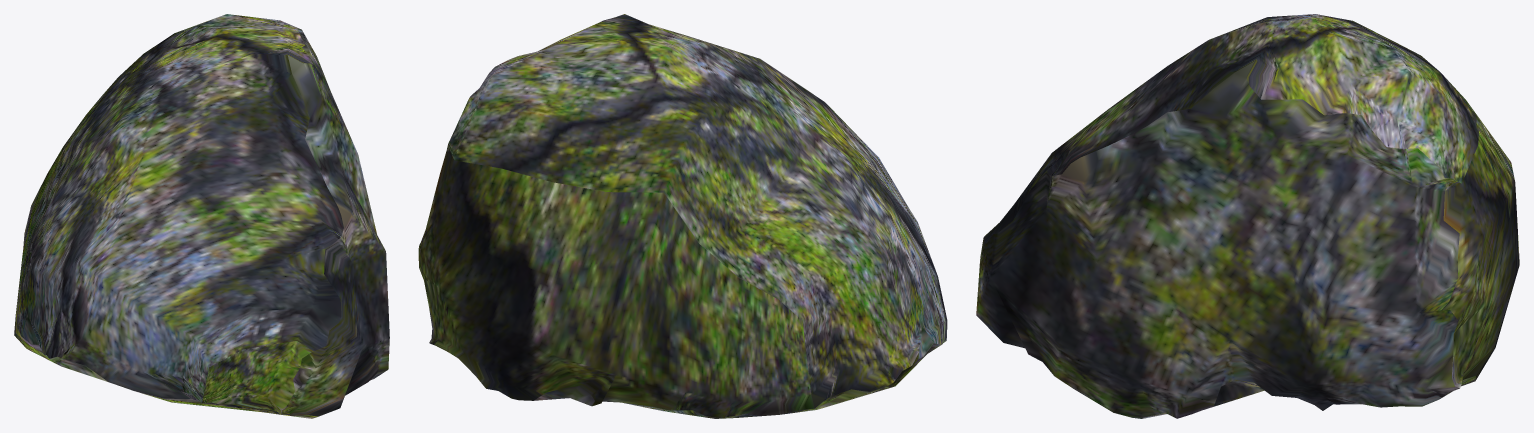
The model's file is Rock02.fbx.
The picture shows the model from 3 angles, left to right: view 1: azimuth 30°, elevation 25°; view 2: azimuth 150°, elevation 25°; view 3: azimuth 270°, elevation 25°; orthographic projection. The views are drawn at different scales.
Visible parts, largest first — view 1: shard5; view 2: shard5; view 3: shard5.
Part boxes in pixels (bbox=[...]): shard5: bbox=[14, 14, 389, 418]; shard5: bbox=[418, 14, 947, 418]; shard5: bbox=[976, 14, 1519, 418].
Size of the model in its own units: 3.59 by 2.9 by 3.95.
Materials: 1 (1 with a texture image).
